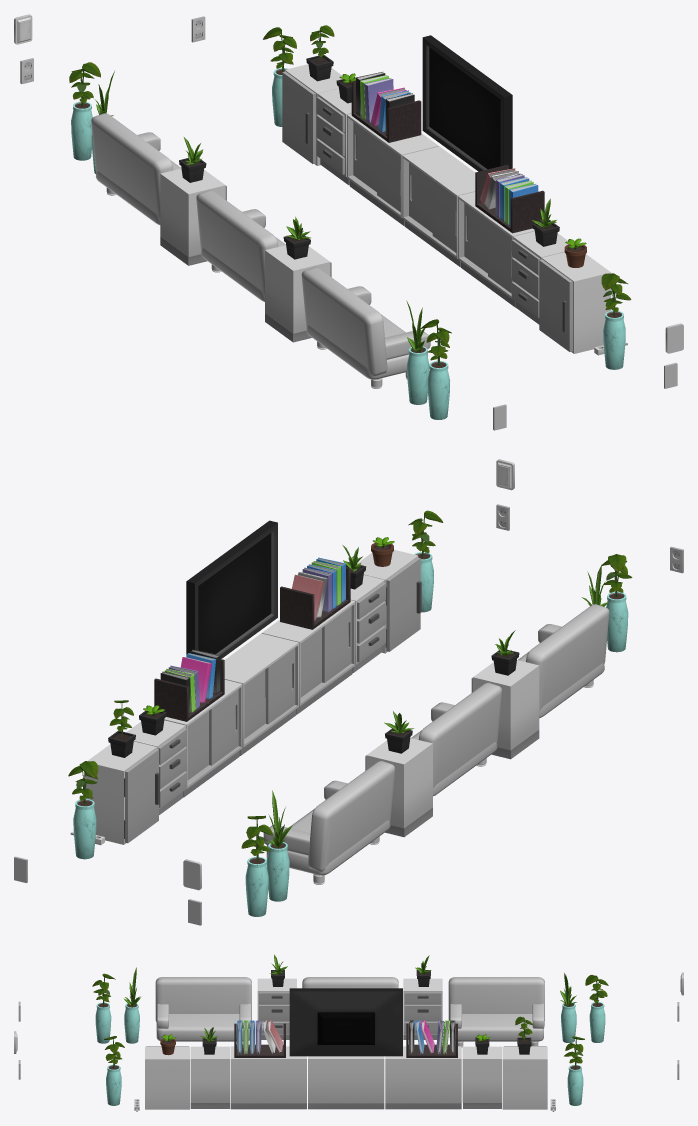
Rendered from Room12Set2.FBX.
3 views of the same model, one above another, from view 1: azimuth 30°, elevation 25°; view 2: azimuth 150°, elevation 25°; view 3: azimuth 270°, elevation 25° (orthographic). The views are drawn at different scales.
Visible parts, largest first — view 1: moniter0 003, ChamferBox020, ChamferBox021, ChamferBox019, chestbox103, chestbox104, chestbox102, chestbox100, Object181, Object180, chestbox096, bookshelf040 (+22 smaller); view 2: moniter0 003, ChamferBox021, ChamferBox020, ChamferBox019, chestbox103, chestbox104, chestbox100, chestbox101, Object181, Object180, chestbox098, Object168 (+18 smaller); view 3: moniter0 003, ChamferBox021, ChamferBox020, chestbox100, chestbox098, chestbox096, chestbox101, chestbox102, chestbox099, chestbox097, ChamferBox019, chestbox104 (+18 smaller).
Boxes of the visible parts, box(x1,y1,x2,y2) form: moniter0 003: box(422, 35, 512, 171); ChamferBox020: box(301, 267, 430, 388); ChamferBox021: box(91, 113, 181, 224); ChamferBox019: box(196, 190, 285, 301); chestbox103: box(265, 245, 330, 342); chestbox104: box(160, 168, 225, 265); chestbox102: box(541, 252, 611, 353); chestbox100: box(402, 146, 475, 266); Object181: box(539, 259, 572, 351); Object180: box(282, 71, 315, 163); chestbox096: box(347, 113, 438, 226); bookshelf040: box(475, 164, 544, 233); moniter0 003: box(186, 520, 277, 658); ChamferBox021: box(263, 761, 395, 884); ChamferBox020: box(518, 604, 609, 718); ChamferBox019: box(411, 682, 502, 796); chestbox103: box(473, 660, 539, 759); chestbox104: box(366, 738, 432, 837); chestbox100: box(224, 633, 298, 755); chestbox101: box(86, 741, 156, 844); Object181: box(385, 557, 421, 651); Object180: box(124, 749, 159, 843); chestbox098: box(261, 600, 355, 714); Object168: box(265, 648, 295, 724); moniter0 003: box(289, 988, 402, 1056); ChamferBox021: box(448, 977, 544, 1047); ChamferBox020: box(155, 977, 251, 1044); chestbox100: box(308, 1056, 384, 1109); chestbox098: box(230, 1046, 306, 1109); chestbox096: box(385, 1046, 461, 1109); chestbox101: box(502, 1046, 547, 1109); chestbox102: box(145, 1046, 189, 1109); chestbox099: box(190, 1046, 229, 1108); chestbox097: box(462, 1046, 501, 1108); ChamferBox019: box(302, 977, 398, 988); chestbox104: box(403, 978, 442, 1039).
Size of the model in its own units: 36 by 23.75 by 120.
